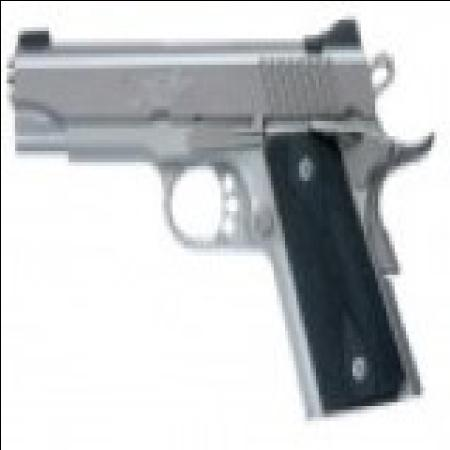Pistol: (2, 18, 430, 416)
